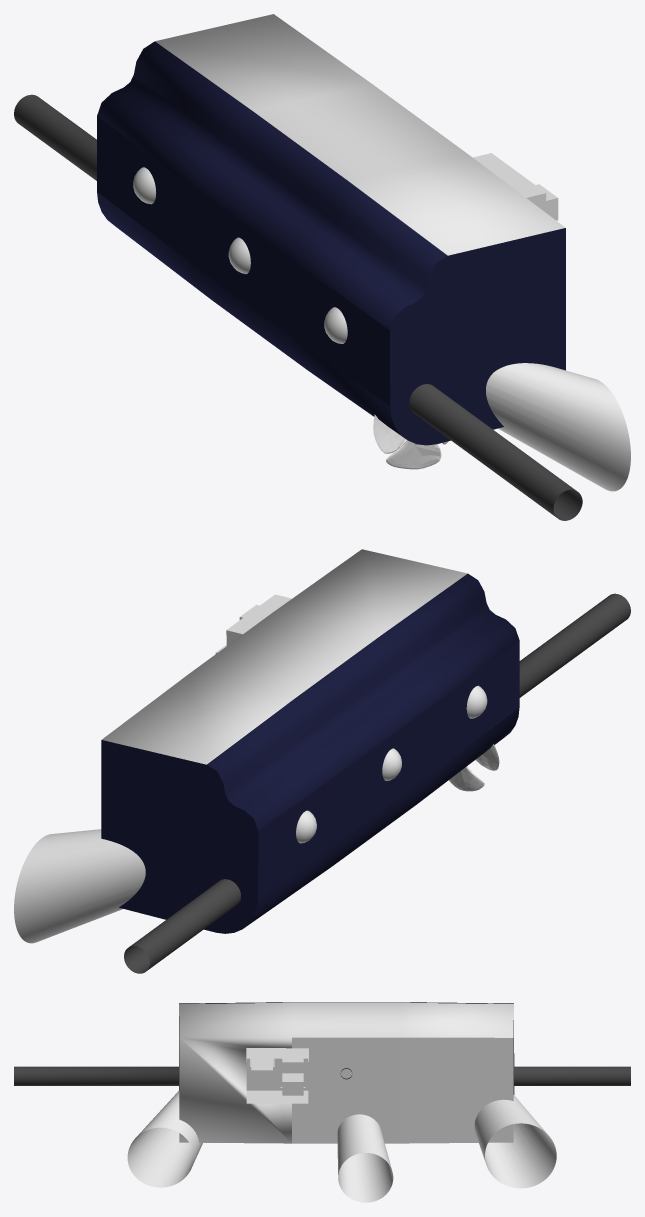
3 renders of one model, top to bottom at view 1: azimuth 30°, elevation 25°; view 2: azimuth 150°, elevation 25°; view 3: azimuth 270°, elevation 25°, orthographic. The views are drawn at different scales.
Parts seen in each view (by area): view 1: Hull, Godrays, Pipe, PortHoles, FanBottom, AC; view 2: Hull, Godrays, Pipe, PortHoles, AC, FanBottom; view 3: Hull, Godrays, Pipe, AC.
Part boxes in pixels (left/top/right/bottom): Hull: left=97, top=14, right=565, bottom=445; Godrays: left=486, top=363, right=630, bottom=491; Pipe: left=14, top=94, right=582, bottom=520; PortHoles: left=133, top=167, right=347, bottom=343; FanBottom: left=373, top=414, right=448, bottom=469; AC: left=473, top=153, right=558, bottom=220; Hull: left=101, top=549, right=519, bottom=933; Godrays: left=14, top=829, right=145, bottom=943; Pipe: left=124, top=593, right=630, bottom=973; PortHoles: left=296, top=685, right=487, bottom=843; AC: left=215, top=594, right=291, bottom=653; FanBottom: left=449, top=744, right=499, bottom=791; Hull: left=179, top=1002, right=514, bottom=1143; Godrays: left=127, top=1090, right=556, bottom=1202; Pipe: left=14, top=1066, right=630, bottom=1085; AC: left=246, top=1048, right=308, bottom=1103.
Size of the model in its own units: 348 by 314 by 1202.
